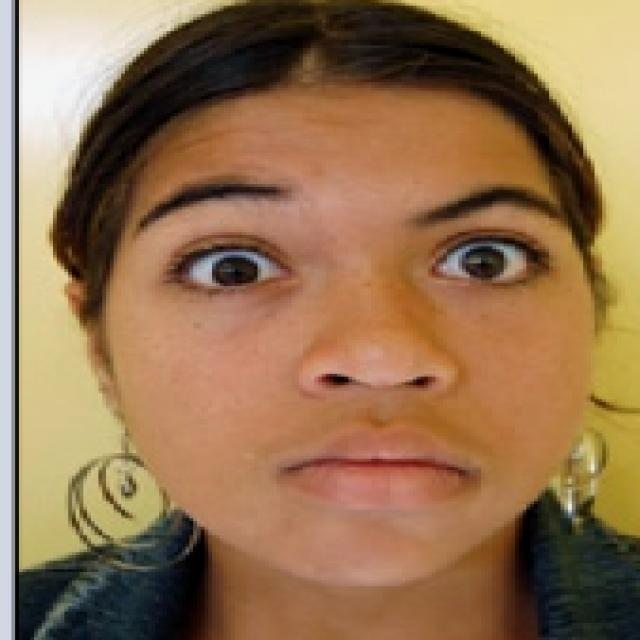stroke_face: (85, 18, 600, 596)
